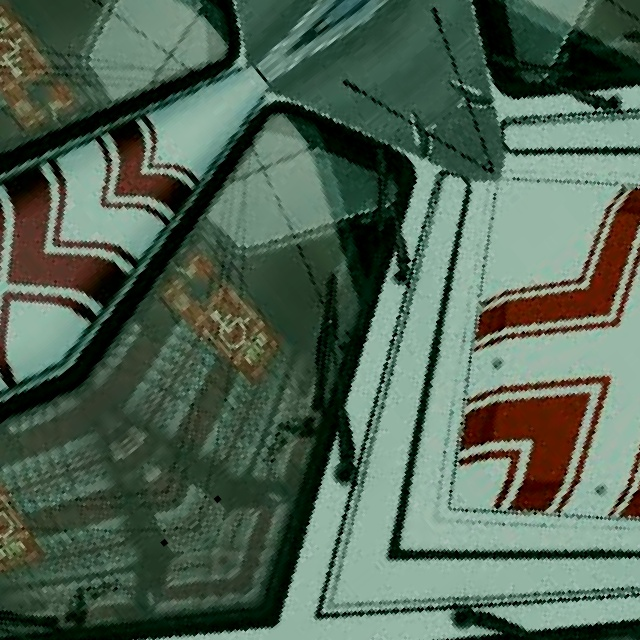ISA: (199, 289, 266, 358), (0, 19, 45, 87), (0, 489, 22, 557)
